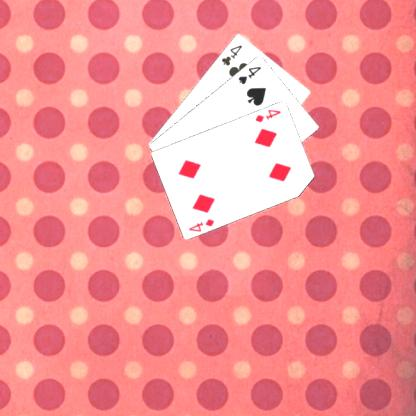4C: (218, 42, 243, 67)
4D: (252, 106, 282, 124), (186, 216, 216, 233)
4S: (235, 63, 262, 86)
